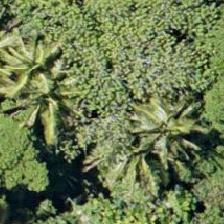coconut_tree: (2, 52, 92, 142), (121, 83, 211, 173), (0, 22, 81, 112)
